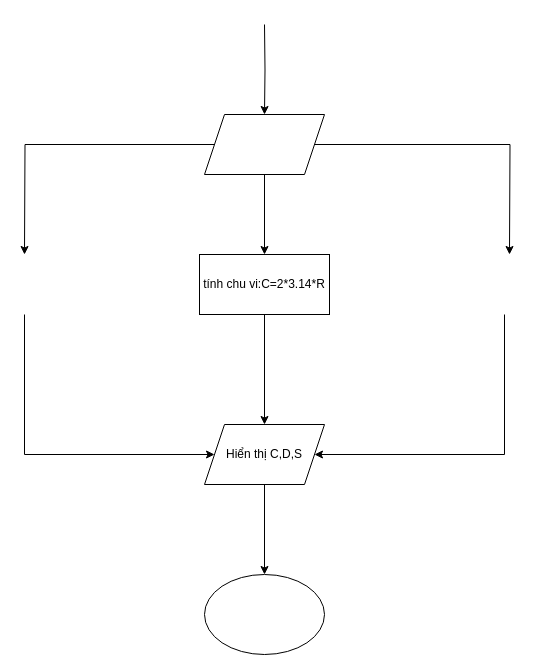
Some shapes in this 536 by 672 pixel diagram are drawn without their labels. The centre of each missing label's shape, as x and y in pixels:
Kết thúc: point (264, 614)
nhập bán kính R: point (264, 144)
